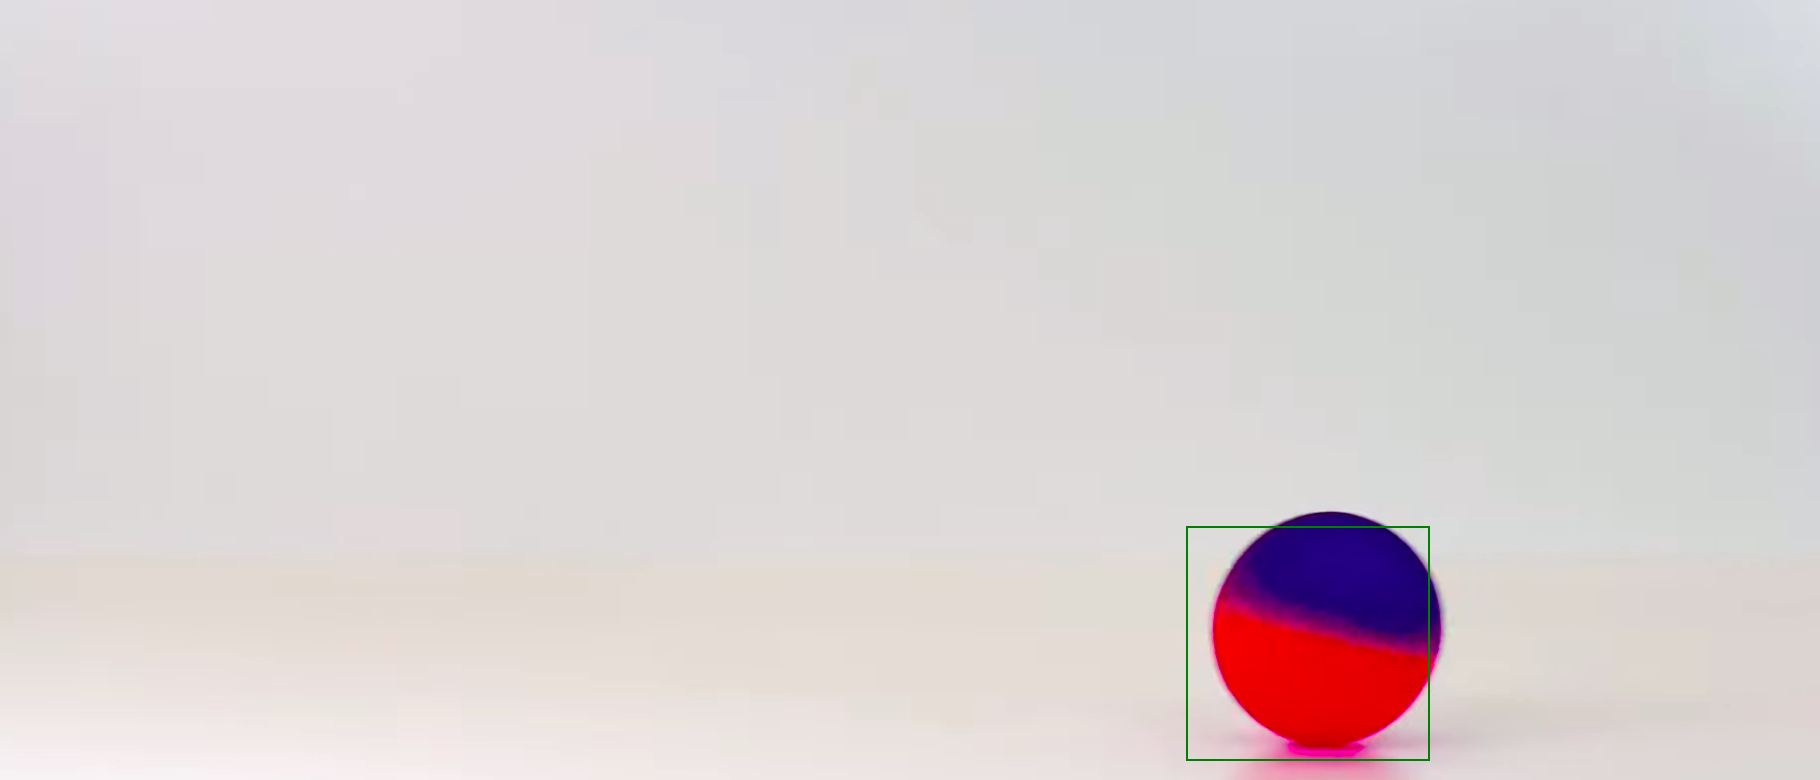Circle: (1213, 511, 1445, 748)
